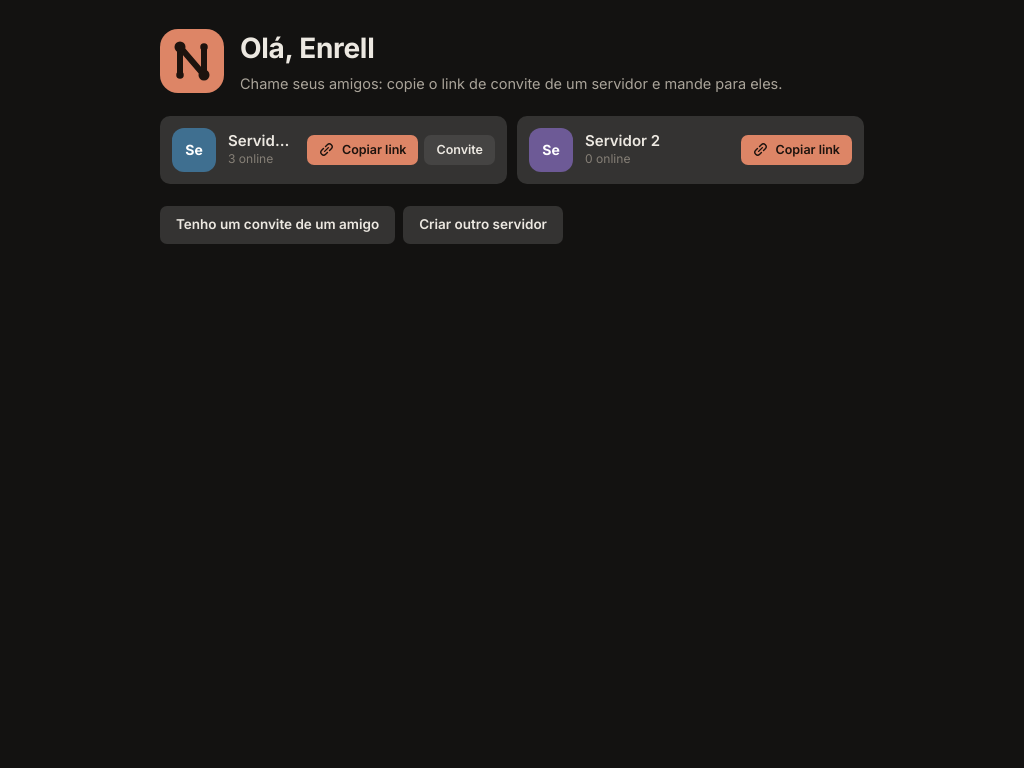
Test: página inicial com servidores: serve para chamar amigos › 'Convite' abre o link https (clicável em qualquer app) e o código para colar
The width and height of the screenshot is (1024, 768).
Click the button "Convite" at (460, 150), box [424,135,495,165]
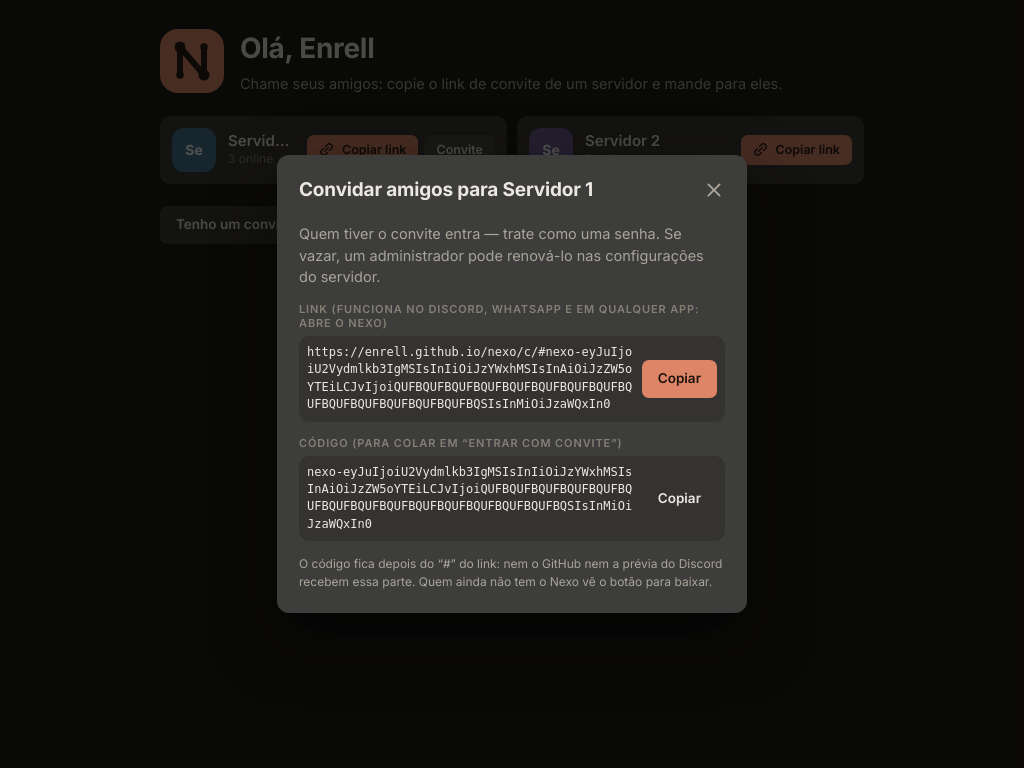
Expected: the dialog shows "https://enrell.github.io/nexo/c/#nexo-", [307,345,632,411]
Expected: the dialog shows "Servidor 1", [299,178,593,201]
